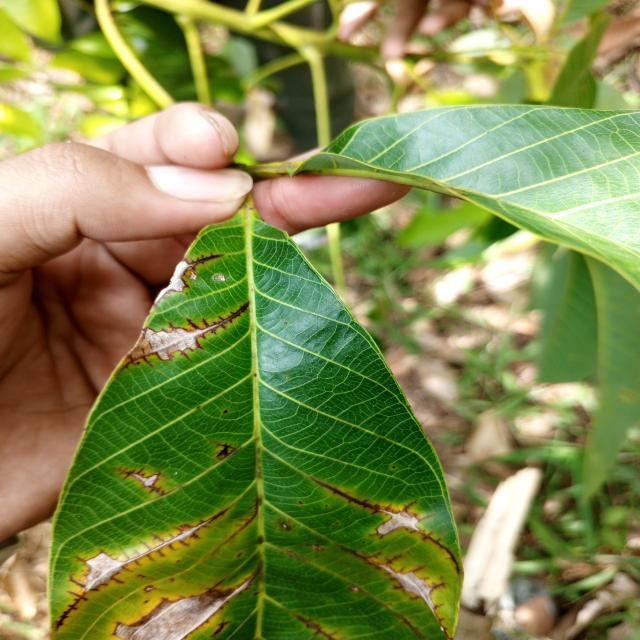Colletotrichum: (298, 501, 304, 504), (223, 410, 228, 413), (284, 322, 288, 325), (392, 466, 396, 468), (285, 377, 288, 379)
Corynespora: (54, 507, 230, 631), (311, 477, 460, 575), (340, 546, 454, 638), (118, 301, 250, 373), (112, 466, 176, 500), (291, 612, 341, 640), (236, 493, 259, 530), (184, 252, 227, 270), (211, 620, 231, 637), (216, 443, 235, 458)
Leaf-Blight: (115, 591, 232, 640)
